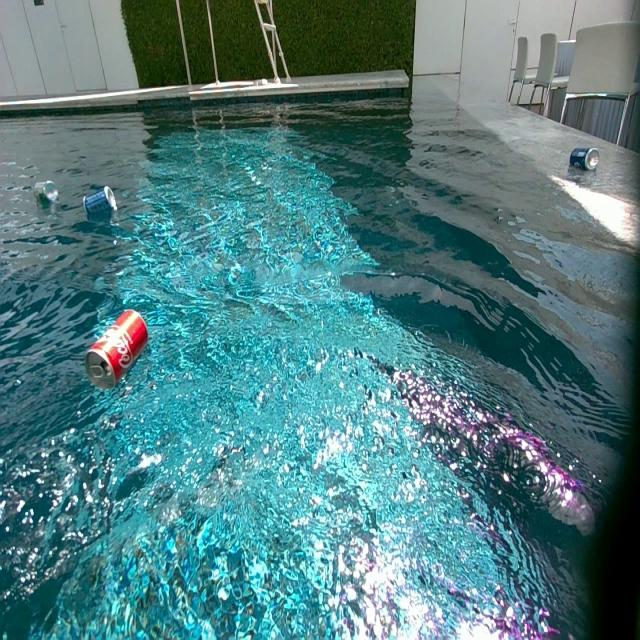Cans: (84, 309, 146, 391), (85, 186, 117, 217), (568, 146, 598, 171), (34, 181, 56, 203)
